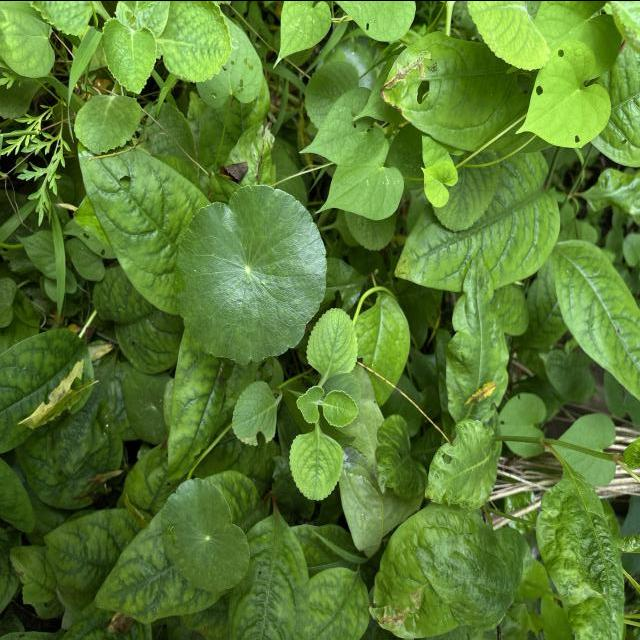Bacopa monnieri: (172, 181, 332, 367), (158, 475, 252, 593)
